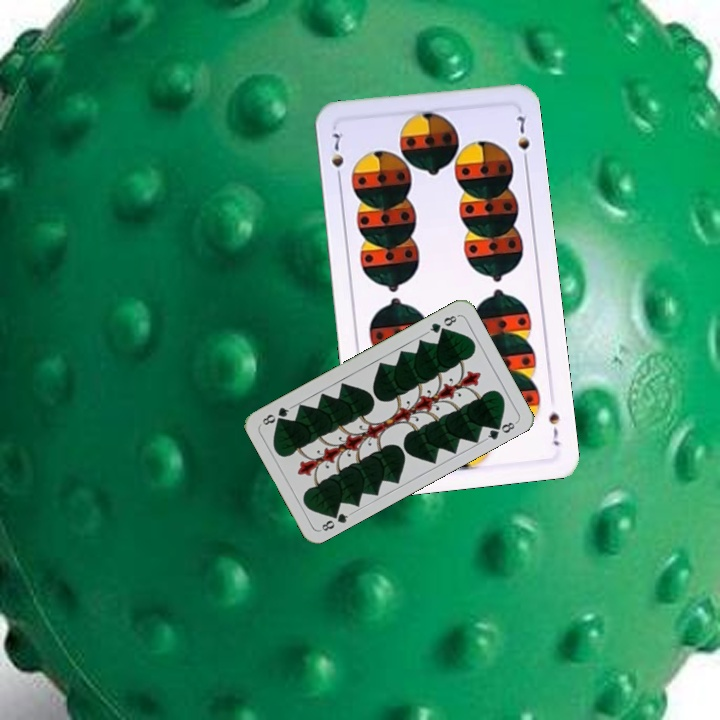G8: (318, 506, 354, 534), (423, 311, 461, 336)
S7: (327, 129, 346, 185), (544, 407, 562, 448)
